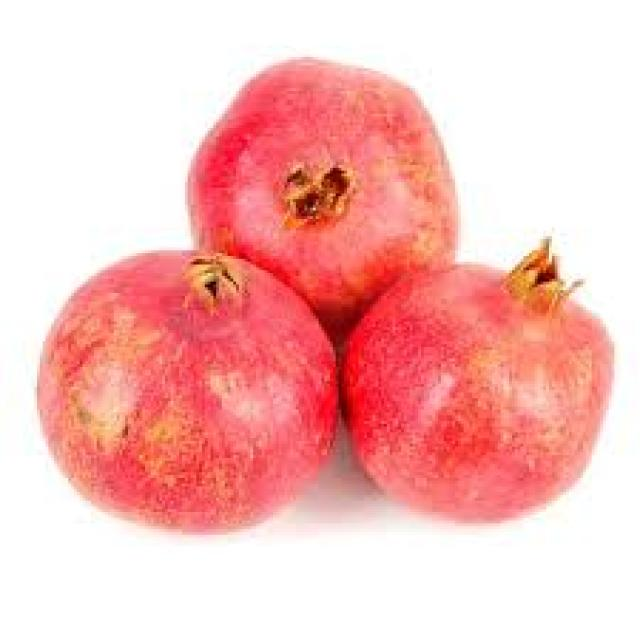Pomegranate: (39, 263, 338, 539), (347, 269, 606, 517), (196, 62, 441, 321)
